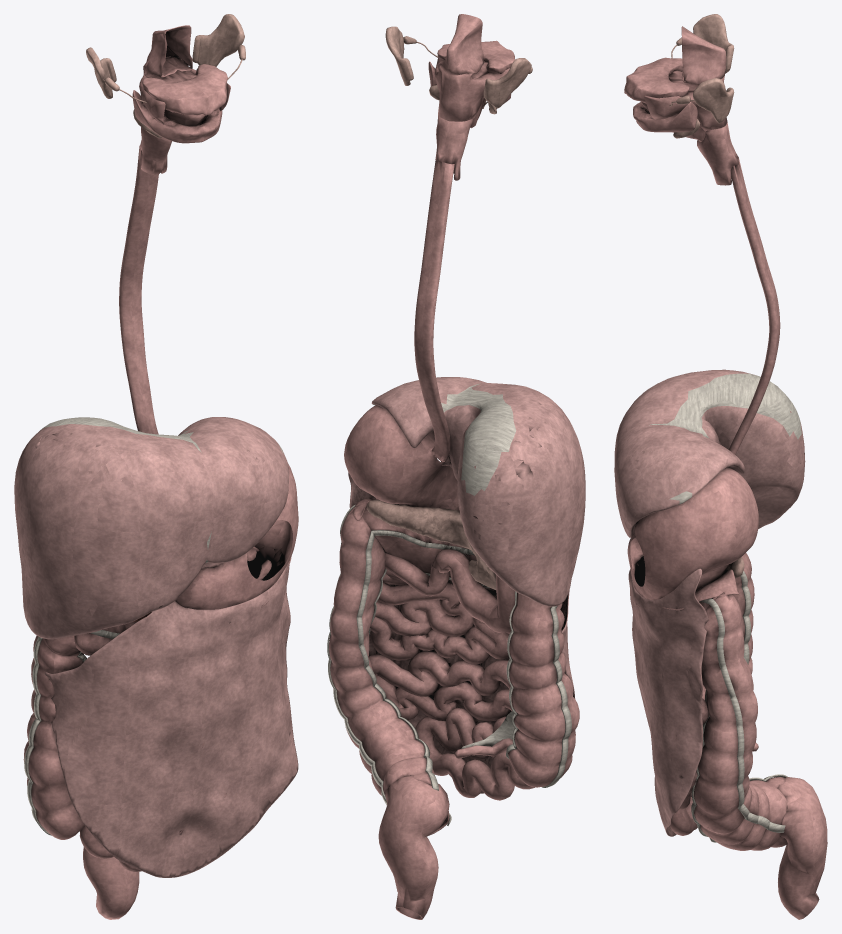
File: digestive.opt.glb
3 renders of one model, left to right at view 1: azimuth 30°, elevation 25°; view 2: azimuth 150°, elevation 25°; view 3: azimuth 270°, elevation 25°, orthographic. The views are drawn at different scales.
Visible parts, largest first — view 1: greater-omentum, liver, ascending-colon, oesophagus, stomach, gingiva, sigmoid-colon, parotid-gland-l, nasopharynx, mesocolic-taenia, laryngopharynx, transverse-colon (+4 smaller); view 2: liver, jejunum, descending-colon, ascending-colon, stomach, sigmoid-colon, oesophagus, pancreas, duodenum, free-taenia, greater-omentum, oropharynx (+10 smaller); view 3: liver, greater-omentum, descending-colon, stomach, sigmoid-colon, oesophagus, gingiva, mesocolic-taenia, nasopharynx, laryngopharynx, parotid-gland-l, oropharynx (+5 smaller).
Part boxes in pixels (x1=…): greater-omentum: x1=44, y1=549, x2=298, y2=877; liver: x1=14, y1=417, x2=288, y2=639; ascending-colon: x1=23, y1=635, x2=84, y2=839; oesophagus: x1=119, y1=145, x2=158, y2=434; stomach: x1=175, y1=463, x2=298, y2=609; gingiva: x1=132, y1=64, x2=227, y2=143; sigmoid-colon: x1=83, y1=847, x2=139, y2=919; parotid-gland-l: x1=192, y1=14, x2=244, y2=66; nasopharynx: x1=143, y1=25, x2=192, y2=76; mesocolic-taenia: x1=24, y1=630, x2=119, y2=835; laryngopharynx: x1=140, y1=127, x2=171, y2=174; transverse-colon: x1=74, y1=548, x2=256, y2=655; liver: x1=371, y1=377, x2=585, y2=606; jejunum: x1=369, y1=552, x2=534, y2=800; descending-colon: x1=329, y1=507, x2=449, y2=835; ascending-colon: x1=508, y1=592, x2=579, y2=787; stomach: x1=344, y1=405, x2=459, y2=511; sigmoid-colon: x1=378, y1=775, x2=449, y2=919; oesophagus: x1=414, y1=160, x2=454, y2=461; pancreas: x1=366, y1=500, x2=496, y2=589; duodenum: x1=432, y1=549, x2=516, y2=633; free-taenia: x1=356, y1=530, x2=517, y2=790; greater-omentum: x1=348, y1=472, x2=575, y2=793; oropharynx: x1=434, y1=57, x2=509, y2=121; liver: x1=614, y1=369, x2=805, y2=537; greater-omentum: x1=628, y1=555, x2=708, y2=836; descending-colon: x1=694, y1=592, x2=787, y2=850; stomach: x1=627, y1=467, x2=758, y2=600; sigmoid-colon: x1=777, y1=777, x2=827, y2=919; oesophagus: x1=728, y1=157, x2=780, y2=454; gingiva: x1=624, y1=57, x2=697, y2=132; mesocolic-taenia: x1=699, y1=598, x2=785, y2=832; nasopharynx: x1=681, y1=26, x2=726, y2=84; laryngopharynx: x1=697, y1=122, x2=738, y2=185; parotid-gland-l: x1=693, y1=78, x2=734, y2=123; oropharynx: x1=644, y1=76, x2=727, y2=131.
Bounding box in the file's own units: 0.2292 × 0.7875 × 0.1712.
5 materials, 5 textured.
